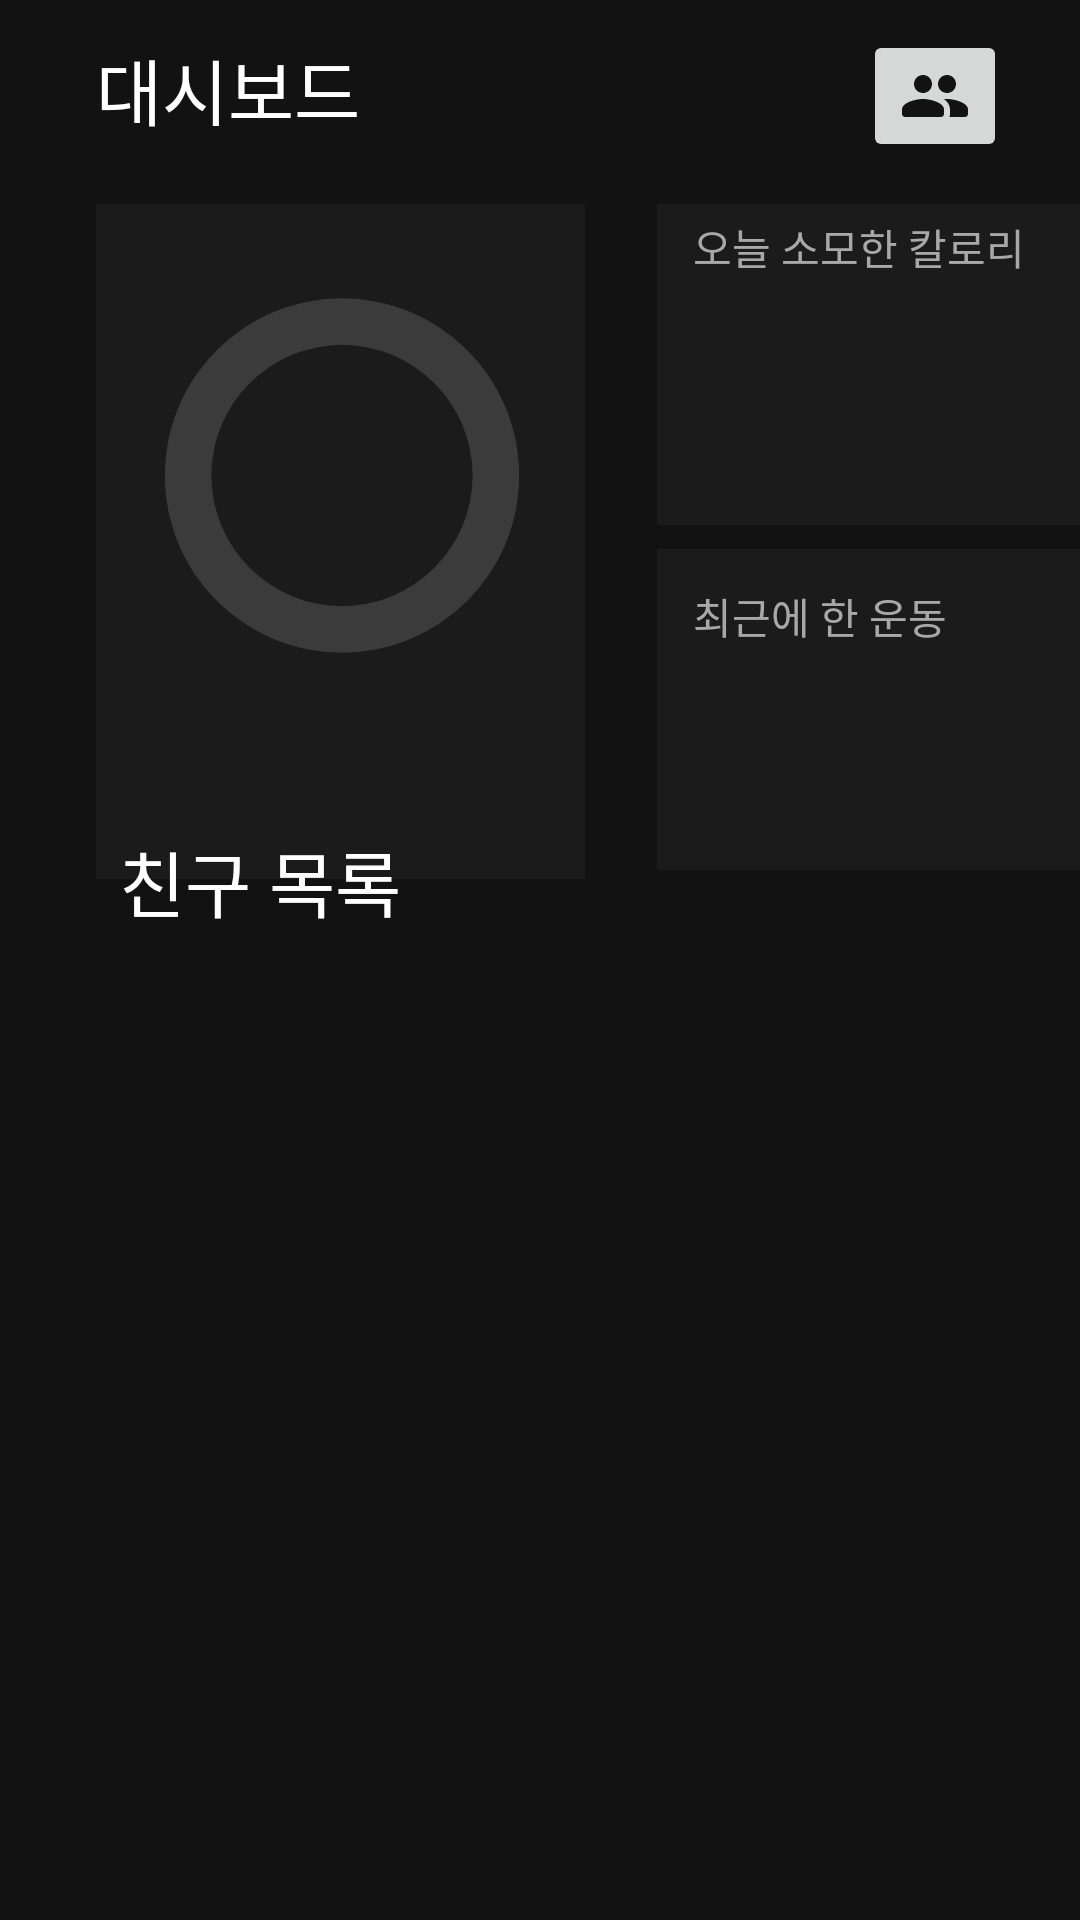

Icon click points for this 1080px x 1920px phone screenshot, format (x,y):
friends: (935,96)
